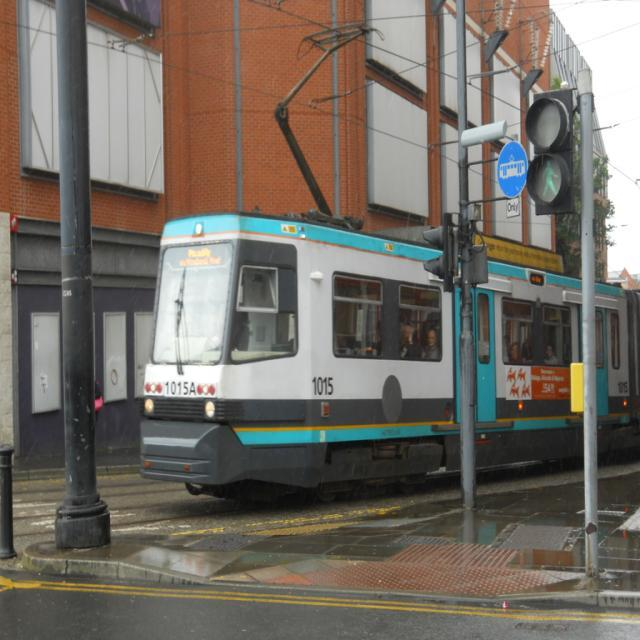traffic light: (524, 88, 576, 214)
